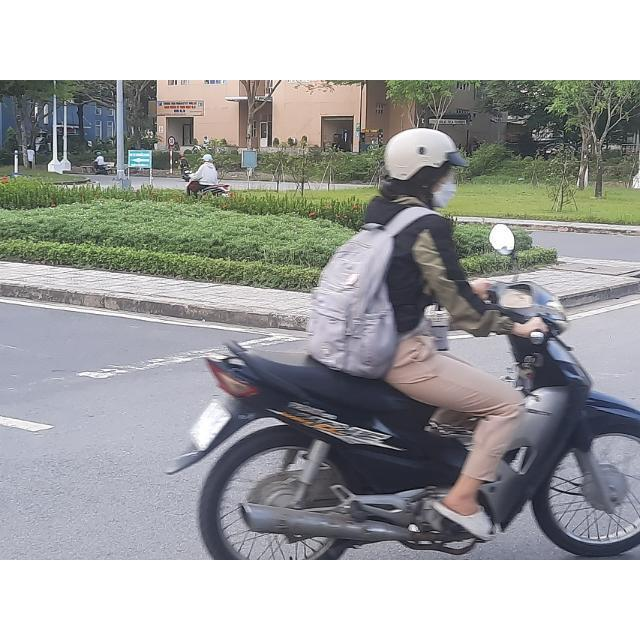Helmet: (382, 127, 468, 206)
